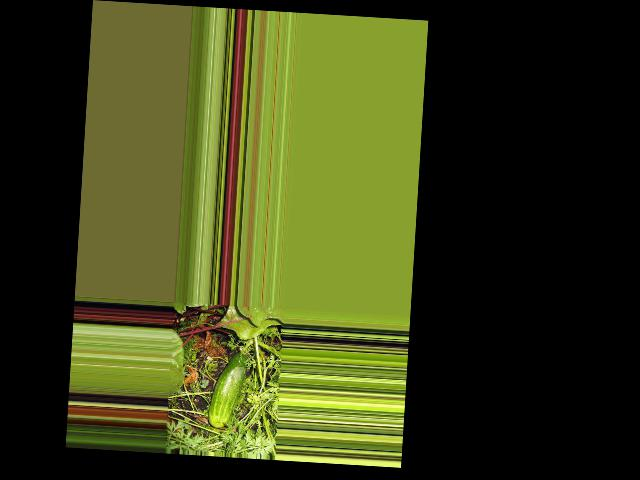cucumber: (207, 350, 249, 428)
